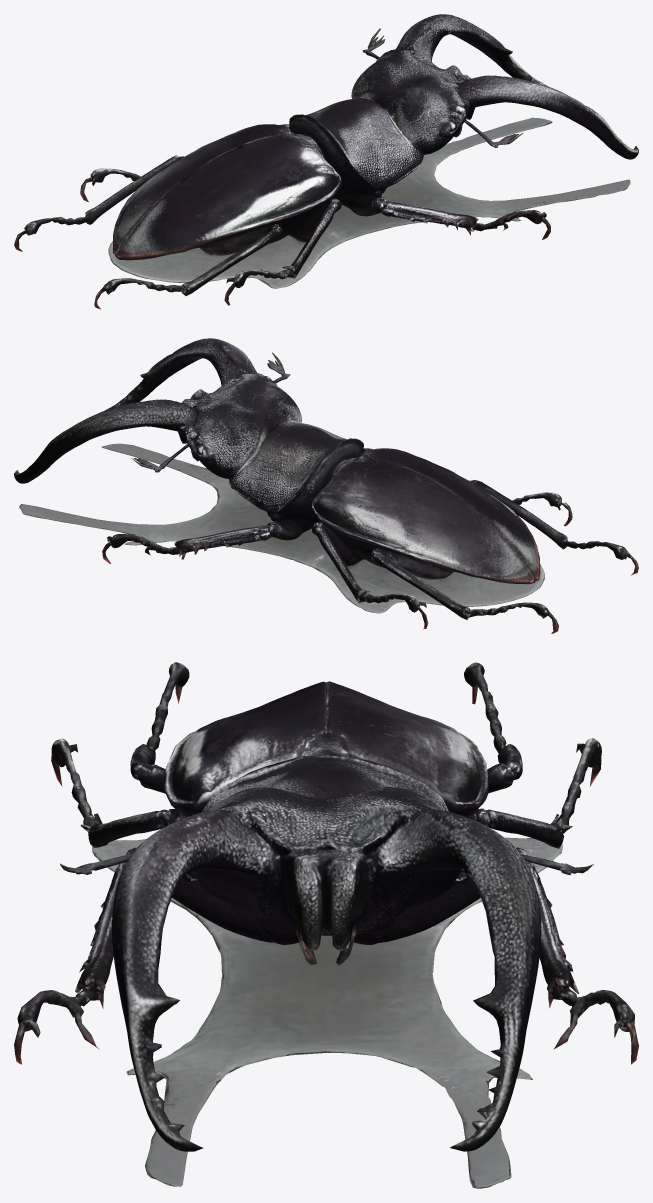
File: 巨顎叉角.glb
3 renders of one model, top to bottom at view 1: azimuth 30°, elevation 25°; view 2: azimuth 150°, elevation 25°; view 3: azimuth 270°, elevation 25°, orthographic. The views are drawn at different scales.
Parts seen in each view (by area): view 1: tripo_node_de2190ec-c5df-4e01-9dfd-b2b76ca86e2d; view 2: tripo_node_de2190ec-c5df-4e01-9dfd-b2b76ca86e2d; view 3: tripo_node_de2190ec-c5df-4e01-9dfd-b2b76ca86e2d.
Boxes of the visible parts, x1=… form: tripo_node_de2190ec-c5df-4e01-9dfd-b2b76ca86e2d: x1=14, y1=14, x2=638, y2=309; tripo_node_de2190ec-c5df-4e01-9dfd-b2b76ca86e2d: x1=14, y1=338, x2=638, y2=633; tripo_node_de2190ec-c5df-4e01-9dfd-b2b76ca86e2d: x1=14, y1=662, x2=638, y2=1188.
Size of the model in its own units: 0.9799 by 0.2287 by 0.5161.
Materials: 1 (1 with a texture image).
